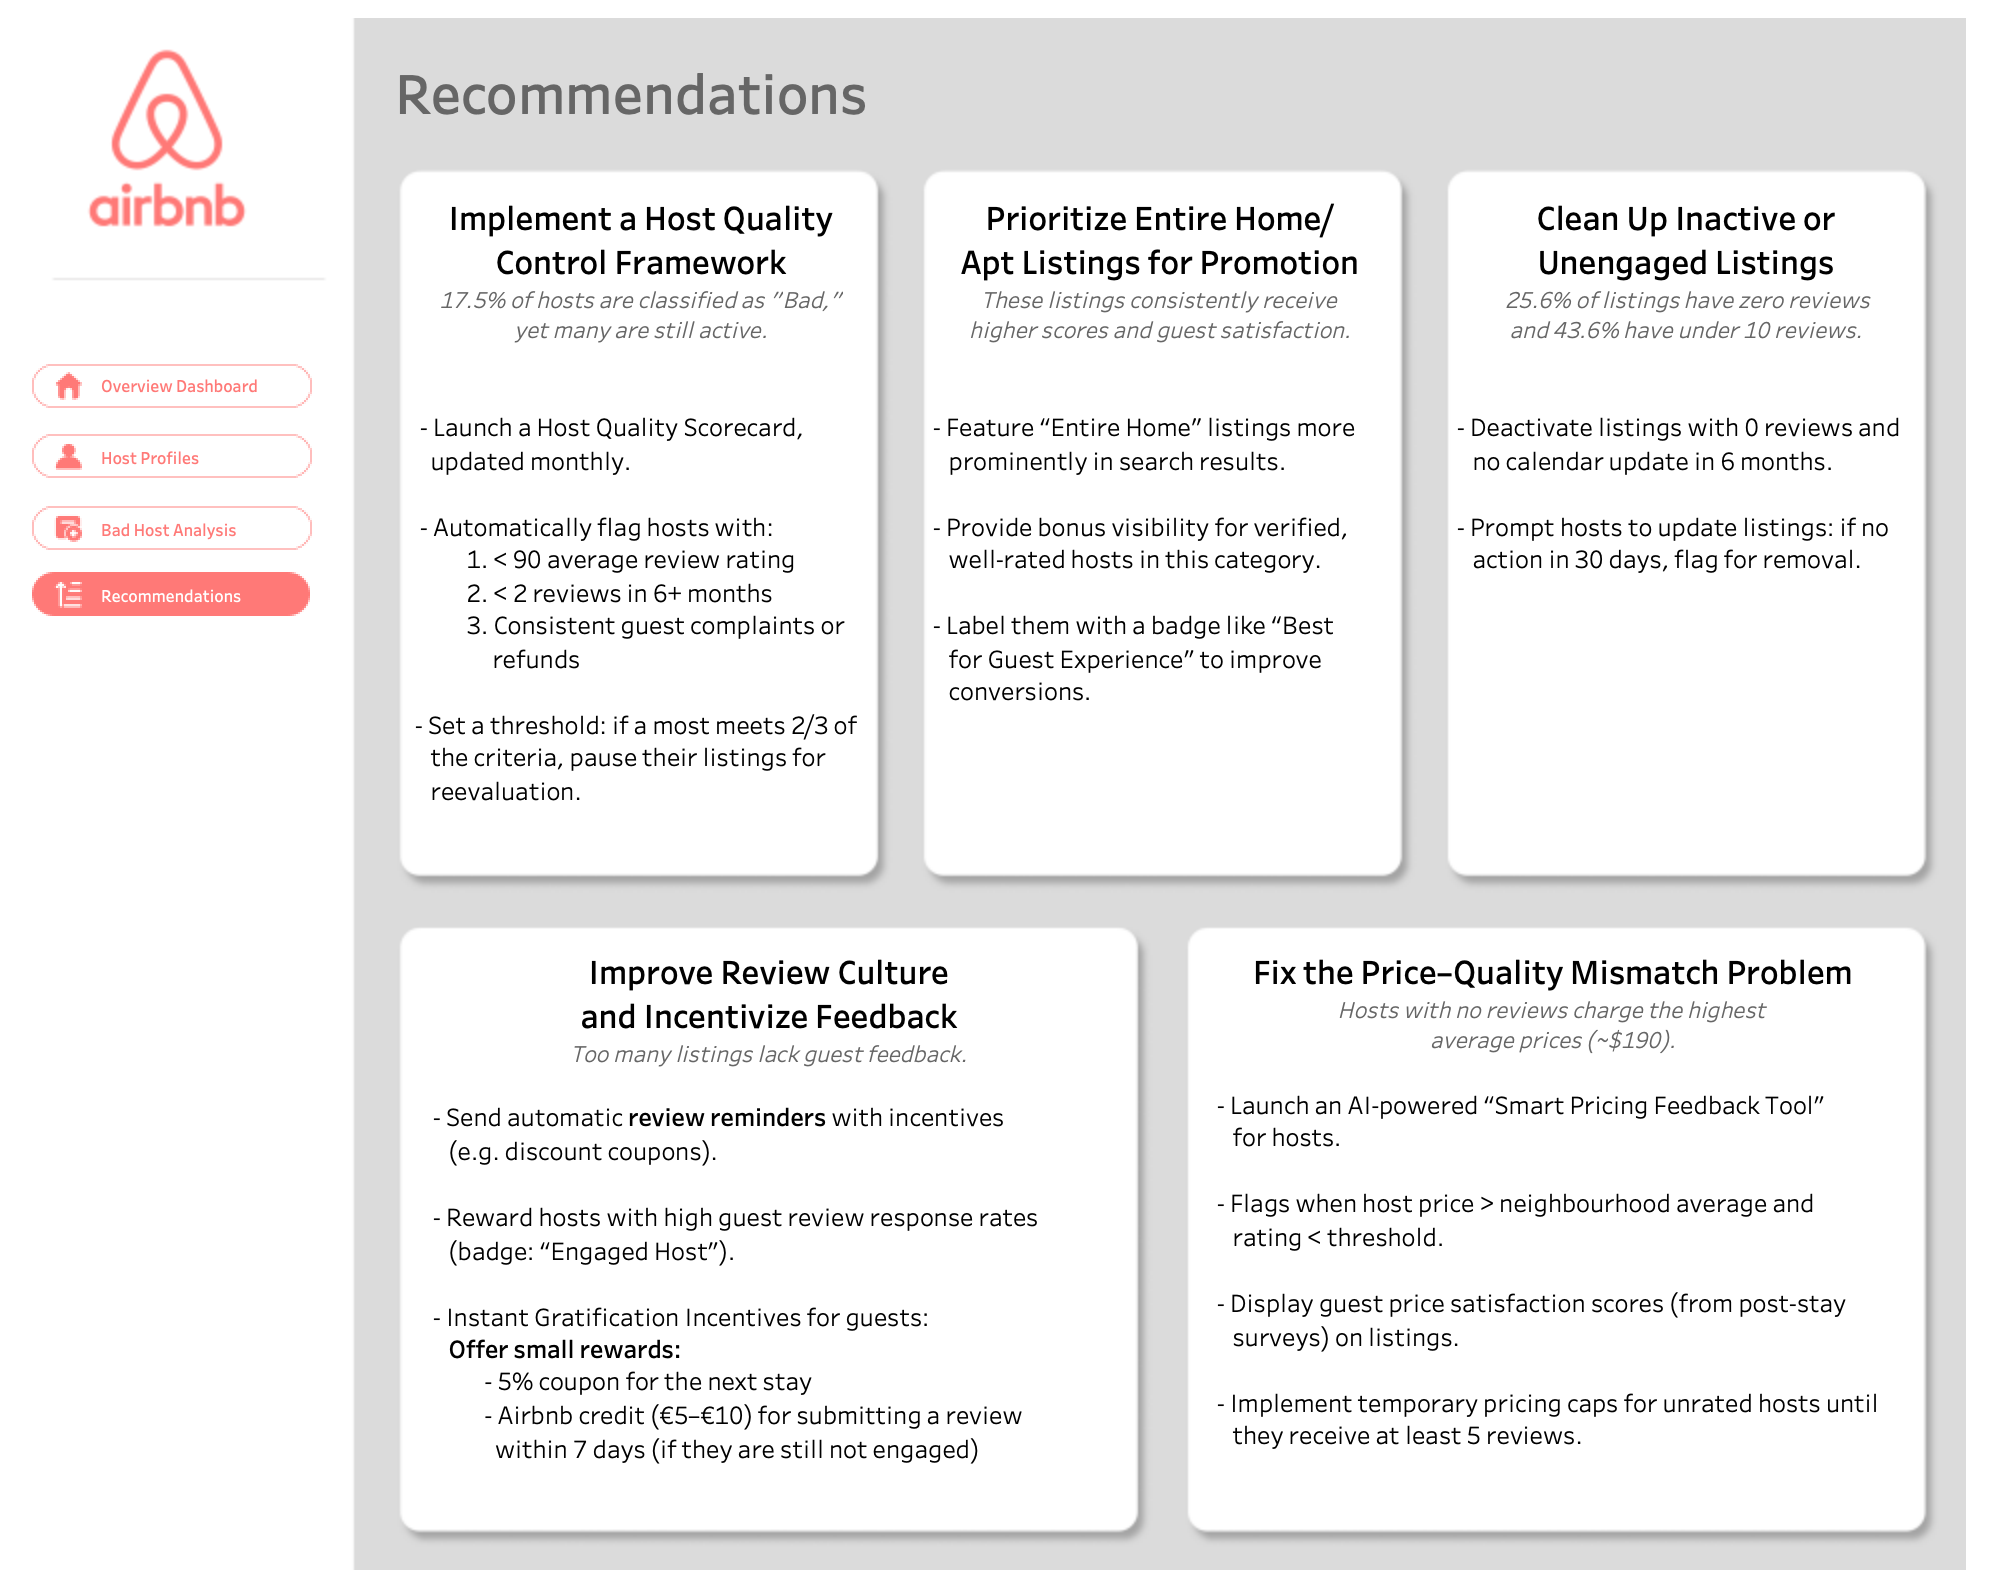

The dashboard page shown, as its layout file describes it:
{"tool":"tableau","page":{"name":"Recommendations","canvas":[1000,800],"ordinal":3},"visuals":[{"type":"image","param":"Image/Recommendations.png","box":[8,8,984,784]},{"type":"image","param":"Image/airbnb-2-logo-png-transparent.png","box":[1,24,170,97]},{"type":"text","box":[197,28,507,42]},{"type":"text","box":[207,103,231,310]},{"type":"text","box":[466,103,232,259]},{"type":"text","box":[728,103,234,191]},{"type":"dashboard-object","box":[18,174,140,44]},{"type":"text","box":[50,187,86,17]},{"type":"dashboard-object","box":[18,207,140,48]},{"type":"text","box":[50,223,86,17]},{"type":"dashboard-object","box":[18,246,140,42]},{"type":"text","box":[50,259,86,17]},{"type":"dashboard-object","box":[18,282,139,37]},{"type":"text","box":[50,292,86,17]},{"type":"text","box":[216,480,341,260]},{"type":"text","box":[608,480,341,254]}]}

Visuals, with their boxes on the page's 1000x800 design canvas (x1, y1, x2, y2). These are canvas units, not pixel positions in the 1994x1592 screenshot, which may show the page scaled, cropped or inside an application window:
image: region(8, 8, 992, 792)
image: region(1, 24, 171, 121)
text: region(197, 28, 704, 70)
text: region(207, 103, 438, 413)
text: region(466, 103, 698, 362)
text: region(728, 103, 962, 294)
dashboard-object: region(18, 174, 158, 218)
text: region(50, 187, 136, 204)
dashboard-object: region(18, 207, 158, 255)
text: region(50, 223, 136, 240)
dashboard-object: region(18, 246, 158, 288)
text: region(50, 259, 136, 276)
dashboard-object: region(18, 282, 157, 319)
text: region(50, 292, 136, 309)
text: region(216, 480, 557, 740)
text: region(608, 480, 949, 734)
